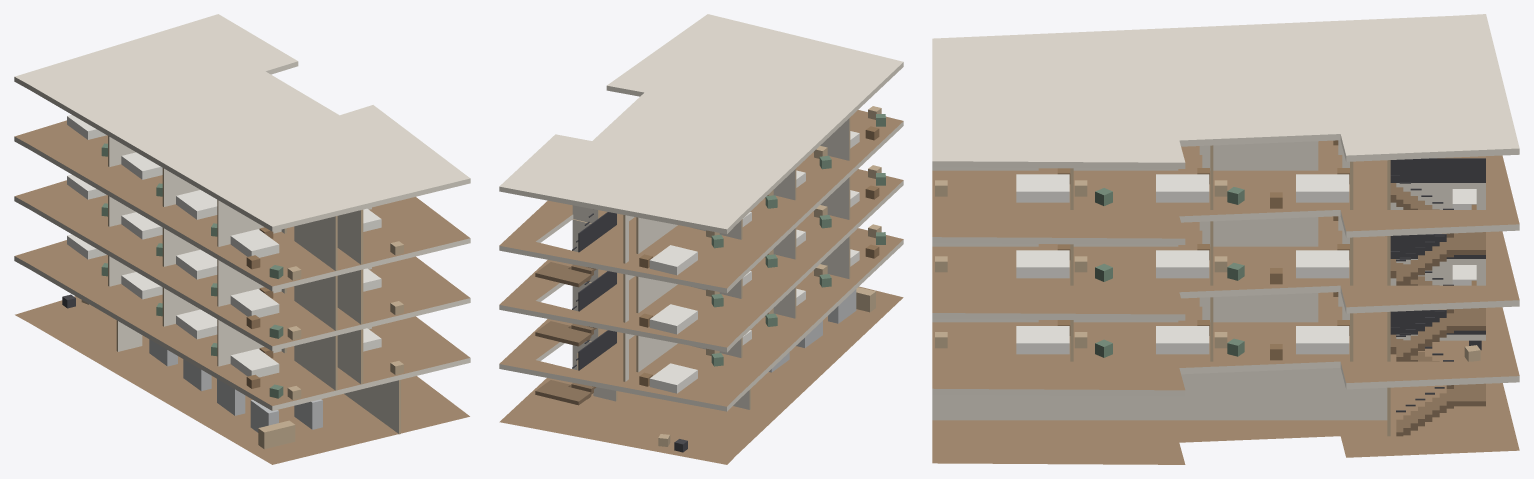
File: interior.glb
The picture shows the model from 3 angles, left to right: view 1: azimuth 30°, elevation 25°; view 2: azimuth 150°, elevation 25°; view 3: azimuth 270°, elevation 25°; orthographic projection. The views are drawn at different scales.
Parts seen in each view (by area): view 1: slabs, partitions, coarse-s3, coarse-s2, coarse-s1, coarse-s0; view 2: slabs, partitions, stair, coarse-s2, coarse-s3, coarse-s1, coarse-s0; view 3: slabs, partitions, stair, coarse-s1, coarse-s2, coarse-s3.
Part boxes in pixels (left/top/right/bottom): slabs: left=14, top=14, right=470, bottom=464; partitions: left=108, top=136, right=400, bottom=434; coarse-s3: left=67, top=115, right=403, bottom=280; coarse-s2: left=67, top=174, right=403, bottom=340; coarse-s1: left=67, top=234, right=403, bottom=399; coarse-s0: left=62, top=294, right=322, bottom=449; slabs: left=499, top=14, right=903, bottom=464; partitions: left=572, top=117, right=850, bottom=409; stair: left=535, top=212, right=616, bottom=405; coarse-s2: left=639, top=165, right=885, bottom=334; coarse-s3: left=639, top=106, right=885, bottom=275; coarse-s1: left=639, top=224, right=885, bottom=393; coarse-s0: left=658, top=287, right=875, bottom=452; slabs: left=932, top=14, right=1519, bottom=464; partitions: left=932, top=140, right=1485, bottom=436; stair: left=1390, top=158, right=1485, bottom=436; coarse-s1: left=935, top=265, right=1476, bottom=360; coarse-s2: left=935, top=189, right=1476, bottom=284; coarse-s3: left=935, top=140, right=1349, bottom=208.
Bounding box in the file's own units: 13.17 × 12.49 × 21.97.
